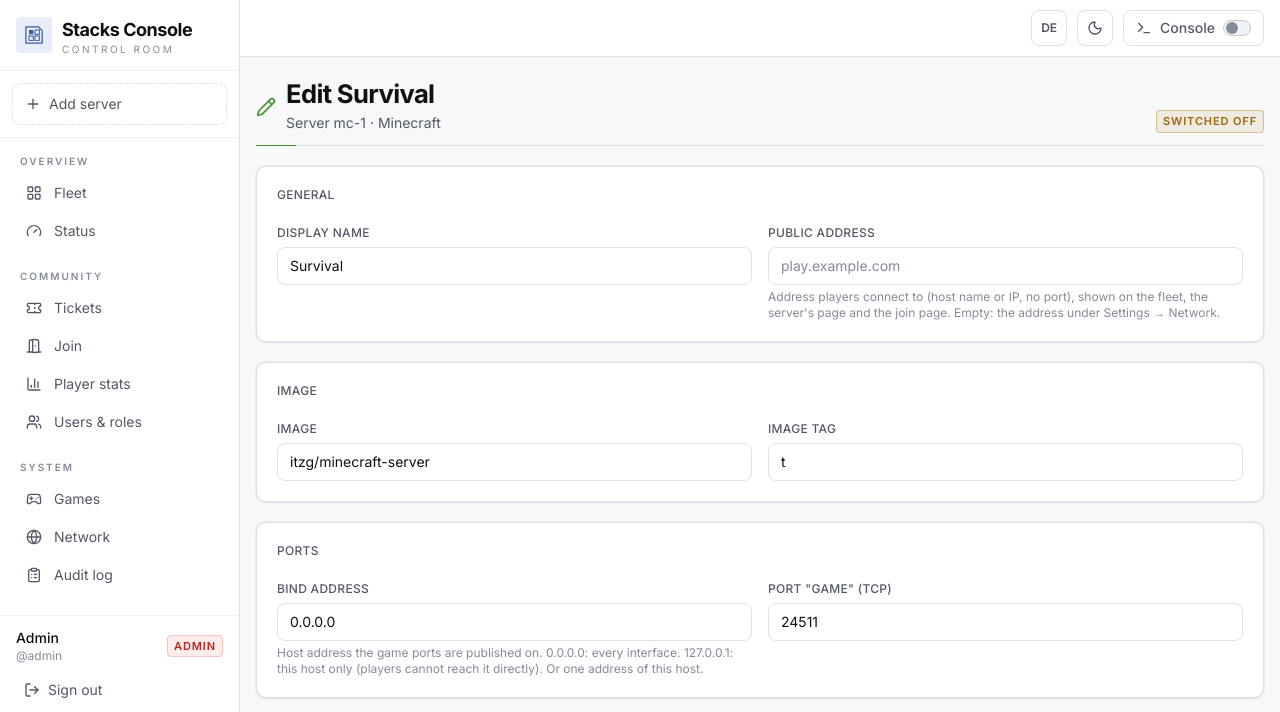
Test: the edit page › shows a port conflict from the backend with the server that holds the port
Replace the text in the field labelled "Port \"game\" (TCP)" with "24512" at (1006, 622), box [768, 603, 1243, 641]
(page scrolled)
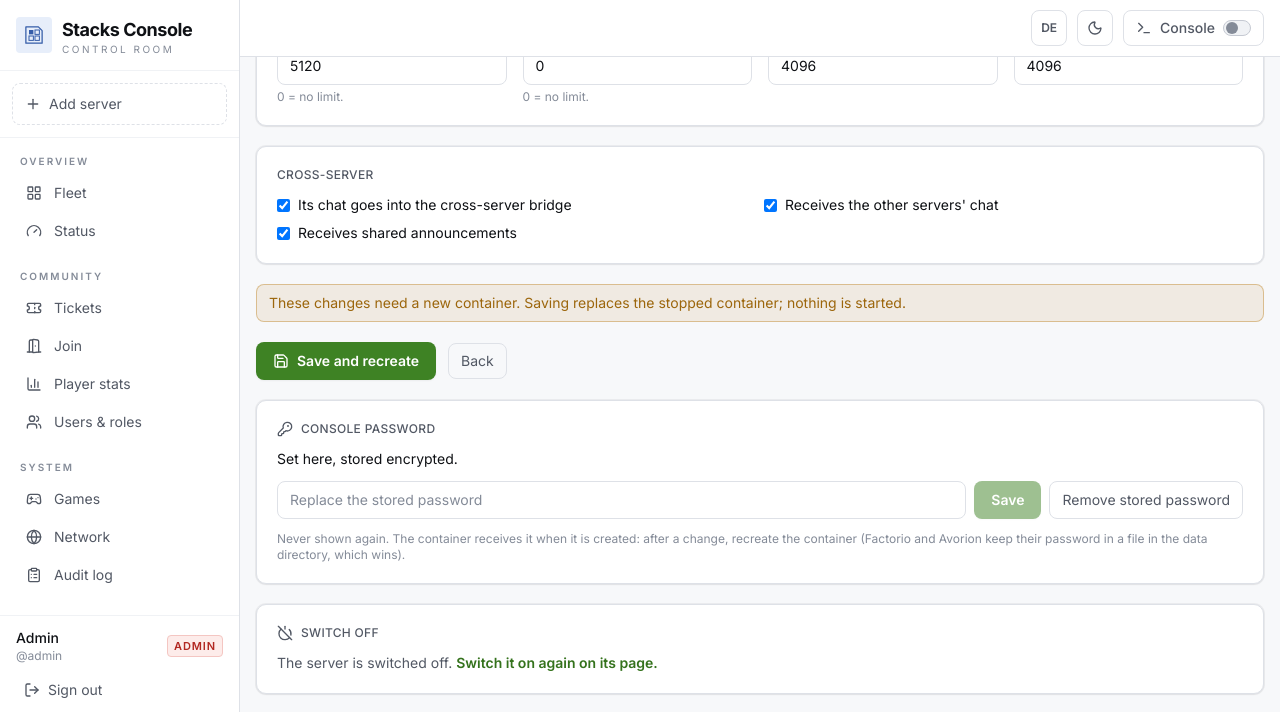
Click the button "Save and recreate" at (346, 361), box [256, 342, 436, 380]
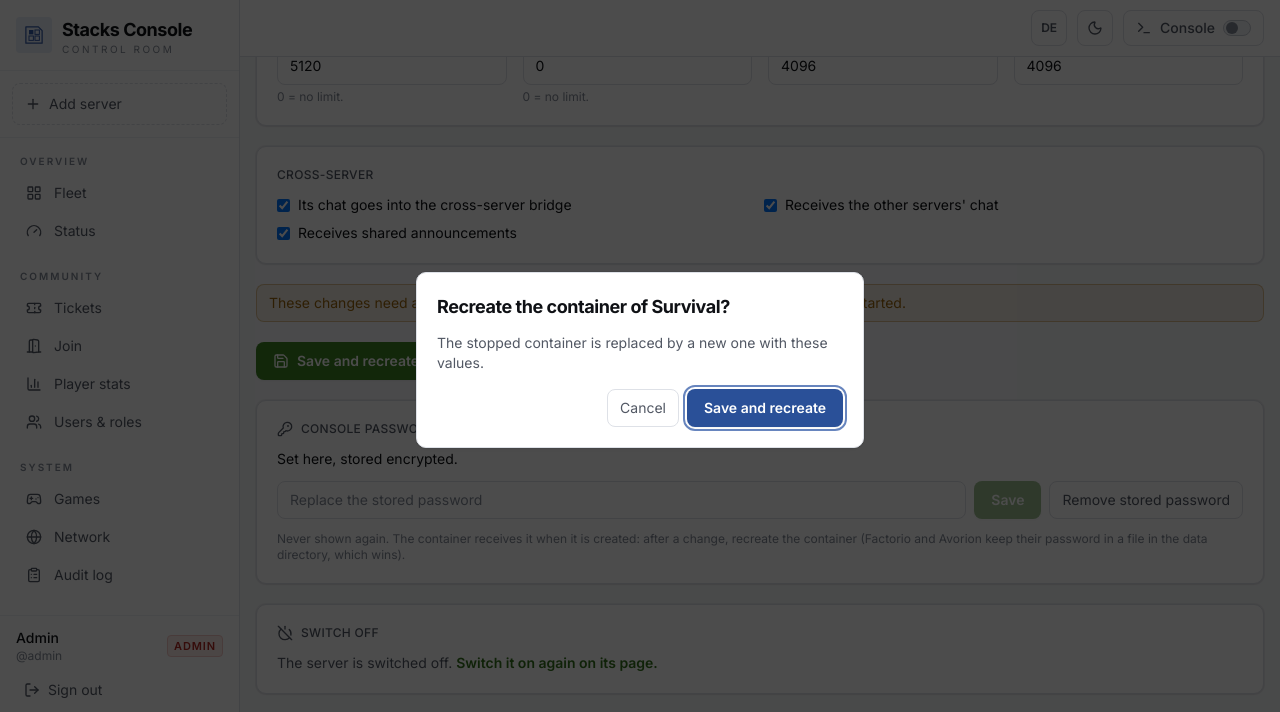
Click the button "Save and recreate" at (765, 408), box [687, 389, 843, 427]
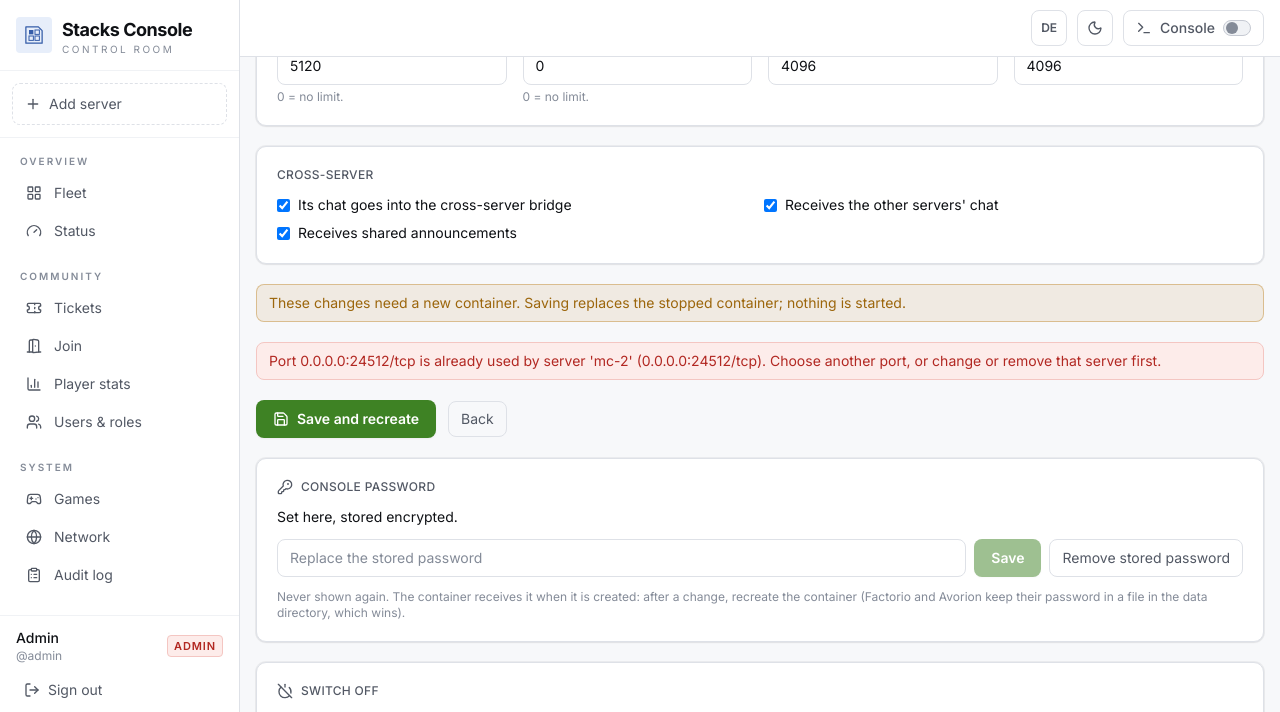
Result: the text "Port 0.0.0.0:24512/tcp is already used by server 'mc-2'" is shown at [269, 352, 1161, 369]
